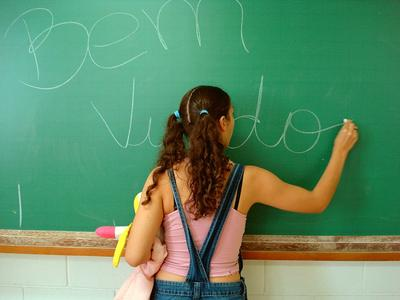person: (126, 87, 360, 300)
